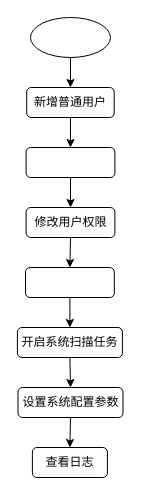
This 141x495 diagram has some shape labels left out. The shapes that lost their labels are listed below. From the top down, each one's box as (x1, y1, x2, y2) in pixels, then its label:
(30, 16, 110, 58): 登录
(25, 146, 115, 178): 修改用户密码
(24, 266, 114, 298): 删除用户
